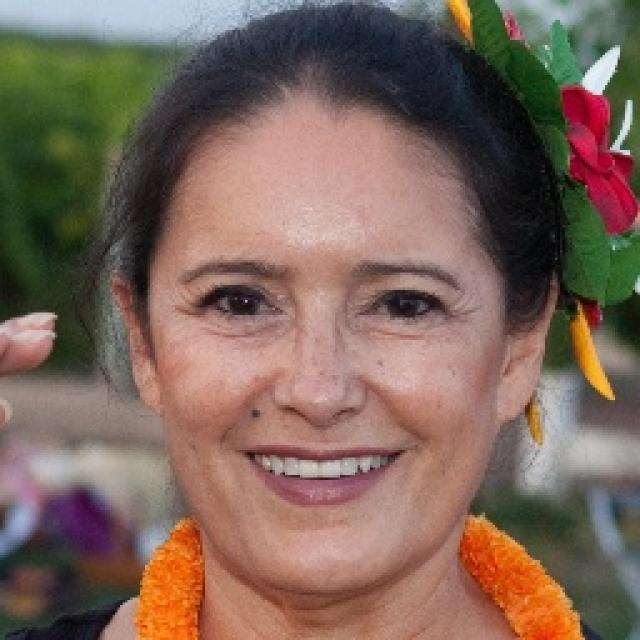earlobe: (495, 269, 559, 423), (110, 272, 167, 414)
